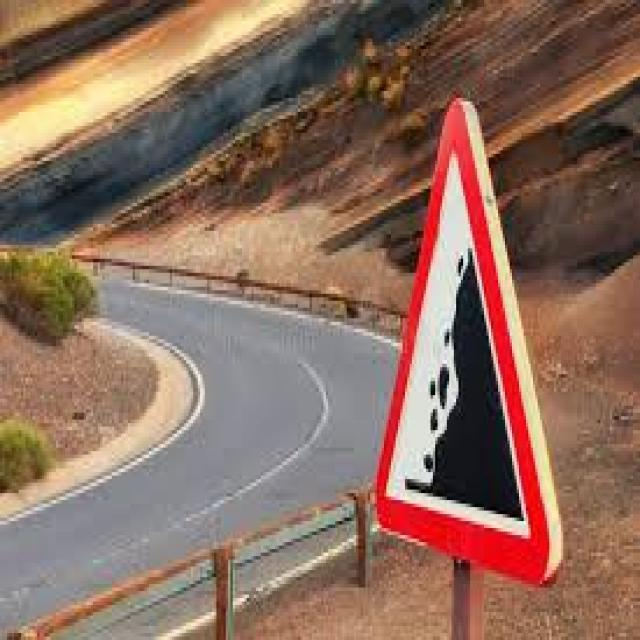falling rocks: (367, 92, 567, 594)
